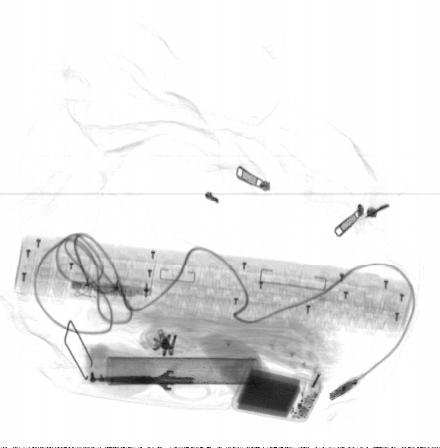Powerbank: (231, 364, 323, 422)
Scissors: (90, 355, 215, 404)
